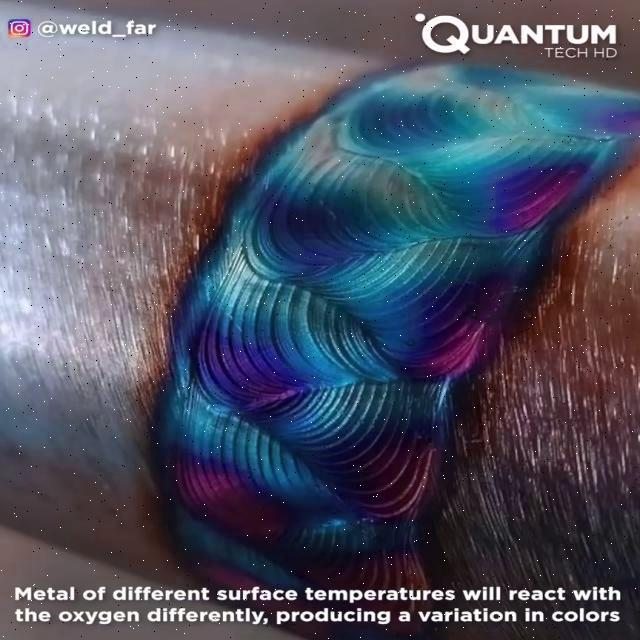Good Welding: (148, 52, 640, 636)
